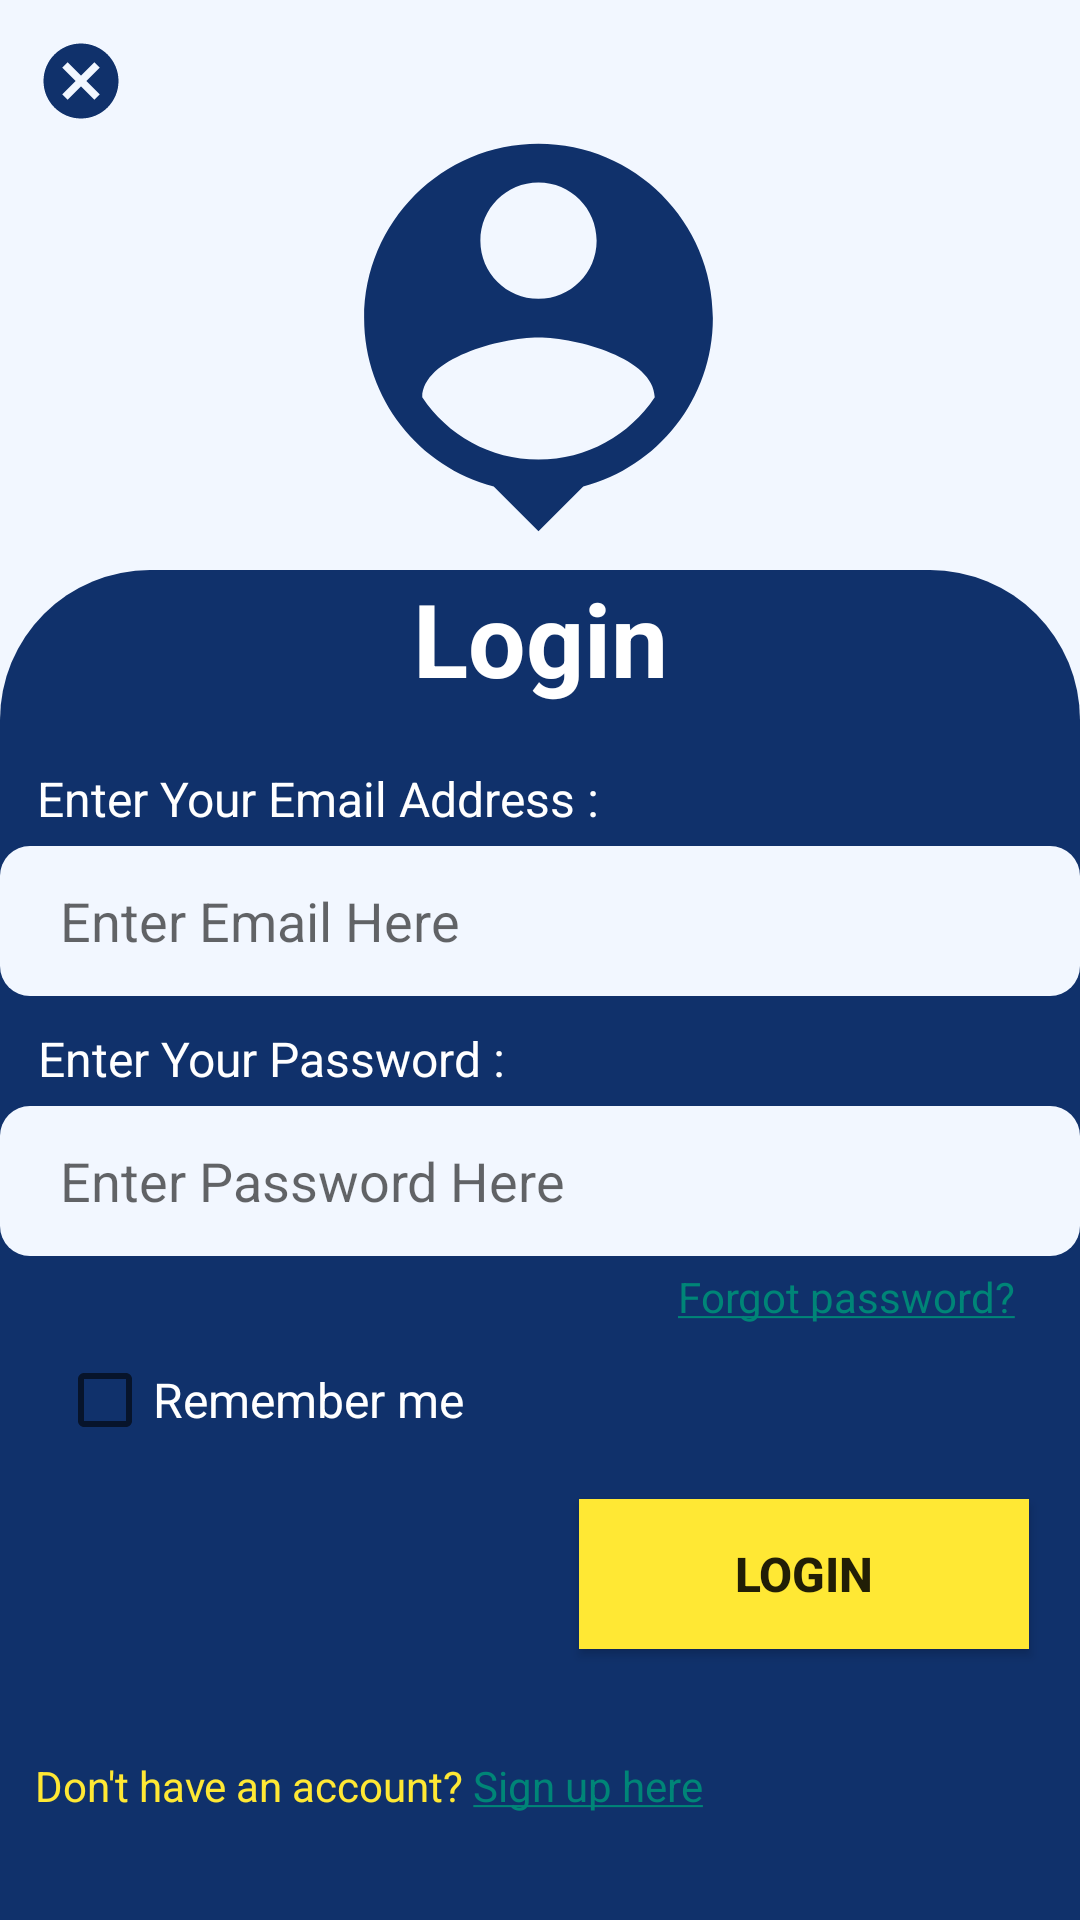

Locate icon controls on the screen. Image size 1080x1920, boxes as bbox=[x1, y1, x2, y2].
login page cancel: bbox=[43, 43, 119, 119]
